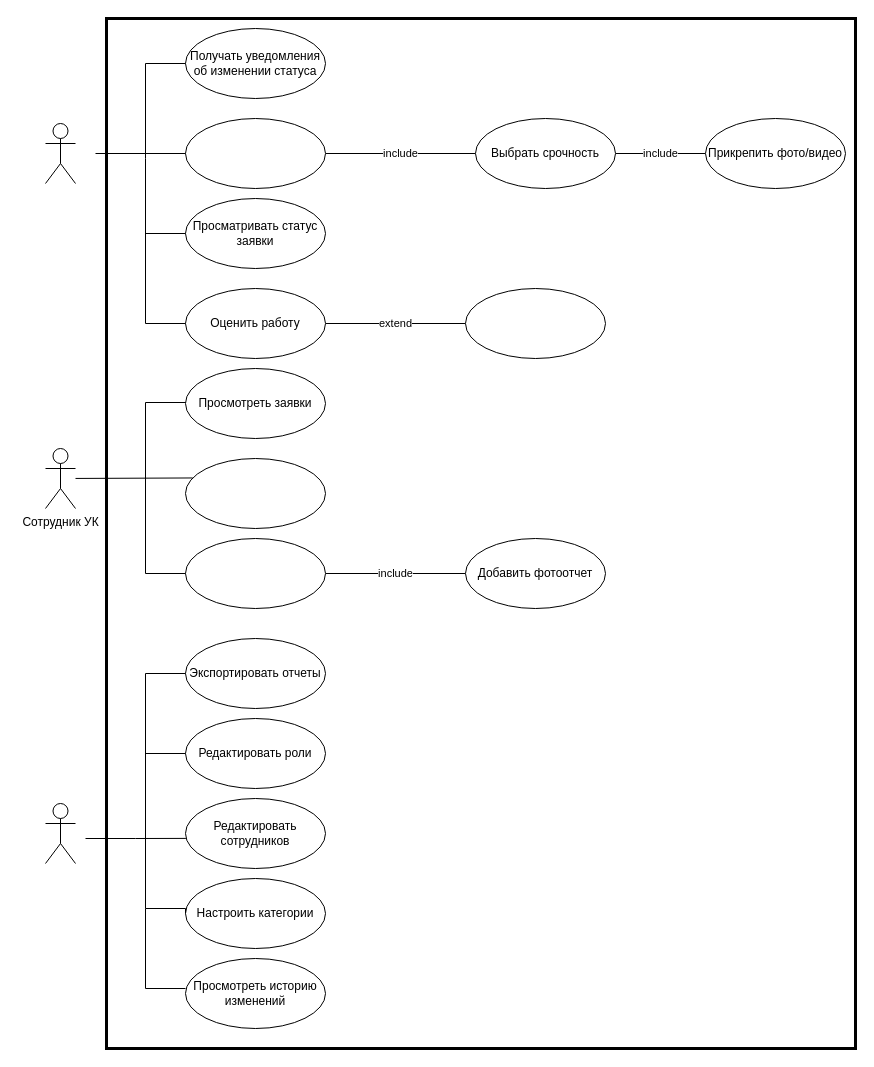
The diagram is 874 pixels wide and 1067 high, and some of its shapes have lost their labels. Each missing label, with the centre of its shape:
Администратор: the point at 60,833
Добавить комментарий: the point at 535,323
Жилец: the point at 60,153
Изменить статус: the point at 255,573
Назначить ответственного: the point at 255,493
Подать заявку: the point at 255,153
